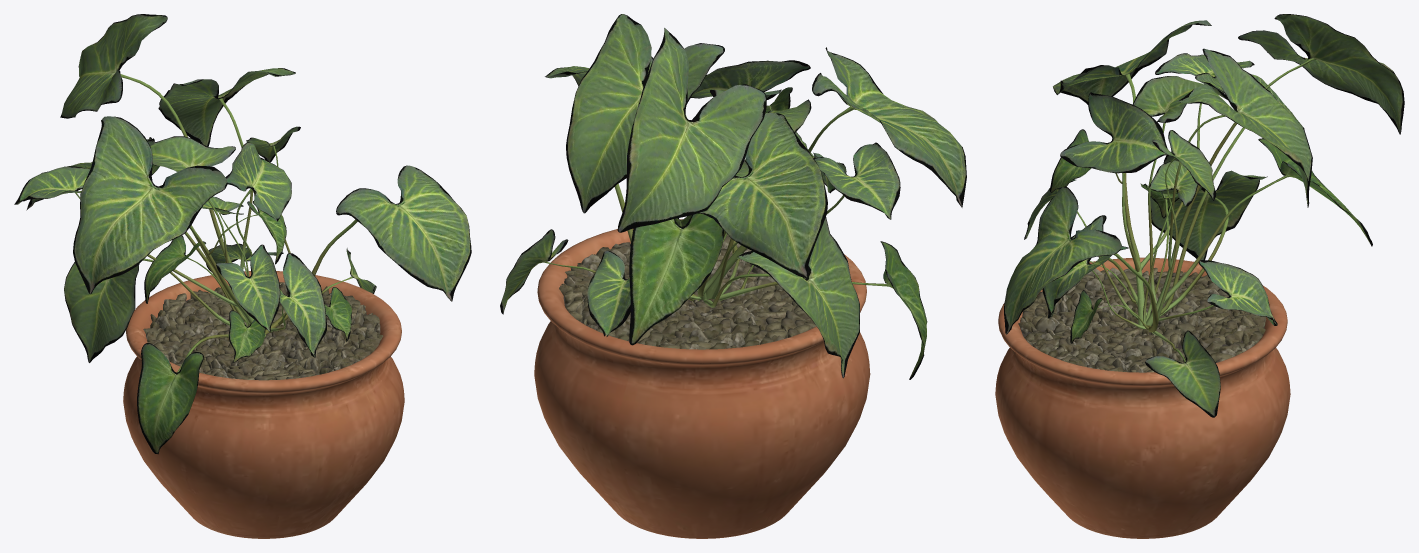
File: plant-m.glb
The picture shows the model from 3 angles, left to right: view 1: azimuth 30°, elevation 25°; view 2: azimuth 150°, elevation 25°; view 3: azimuth 270°, elevation 25°; orthographic projection. The views are drawn at different scales.
Visible parts, largest first — view 1: potted_plant_02_leaves, potted_plant_02_pot, potted_plant_02_dirt; view 2: potted_plant_02_leaves, potted_plant_02_pot, potted_plant_02_dirt; view 3: potted_plant_02_leaves, potted_plant_02_pot, potted_plant_02_dirt.
Boxes of the visible parts, x1,y1,x2,y2 form: potted_plant_02_leaves: (14, 14, 471, 454); potted_plant_02_pot: (123, 271, 404, 538); potted_plant_02_dirt: (143, 282, 383, 380); potted_plant_02_leaves: (500, 14, 966, 379); potted_plant_02_pot: (534, 219, 870, 538); potted_plant_02_dirt: (559, 234, 816, 349); potted_plant_02_leaves: (1004, 14, 1404, 417); potted_plant_02_pot: (995, 257, 1290, 538); potted_plant_02_dirt: (1018, 267, 1266, 372).
Bounding box in the file's own units: 0.7012 × 0.8412 × 0.6574.
2 materials, 2 textured.
